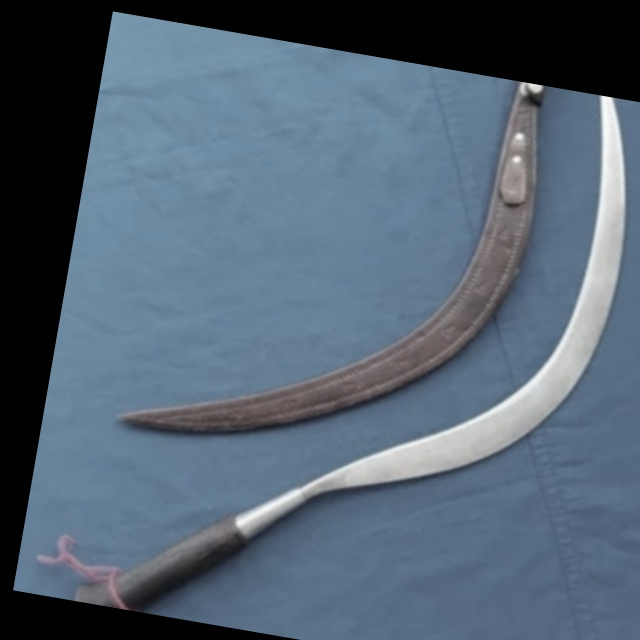Sharp-Object: (112, 29, 640, 640)
